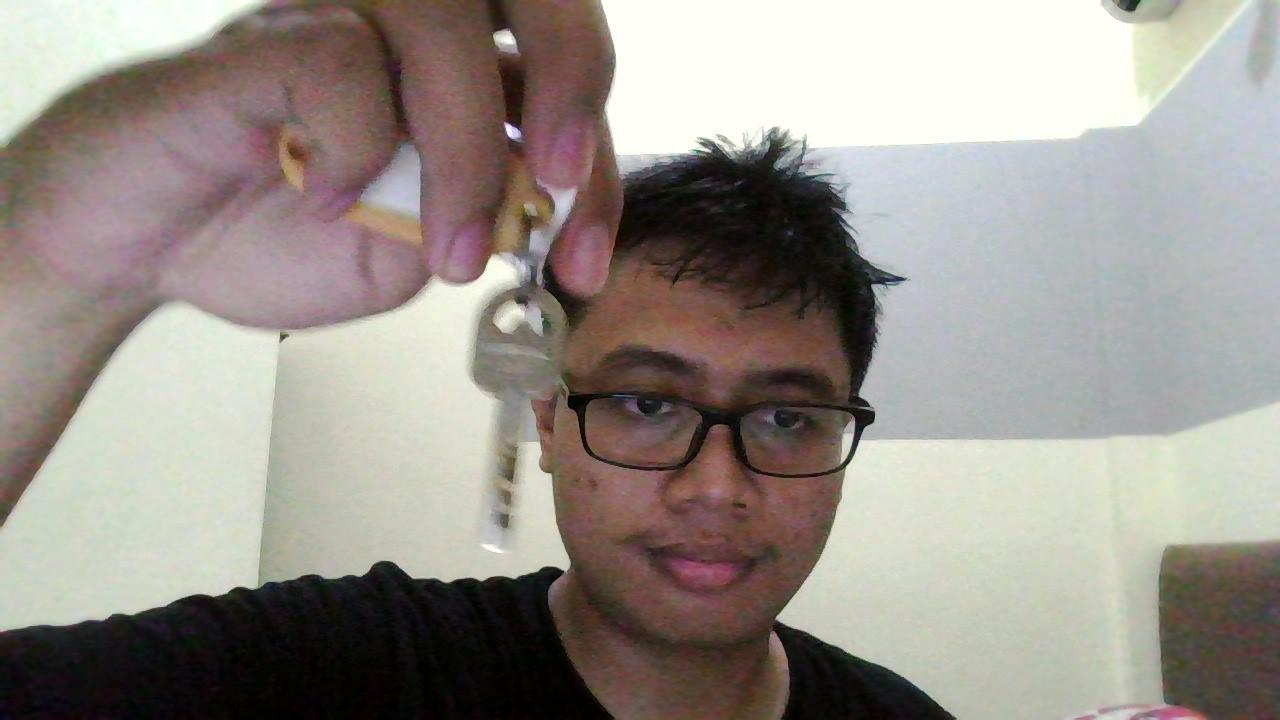keys: (456, 269, 570, 559)
